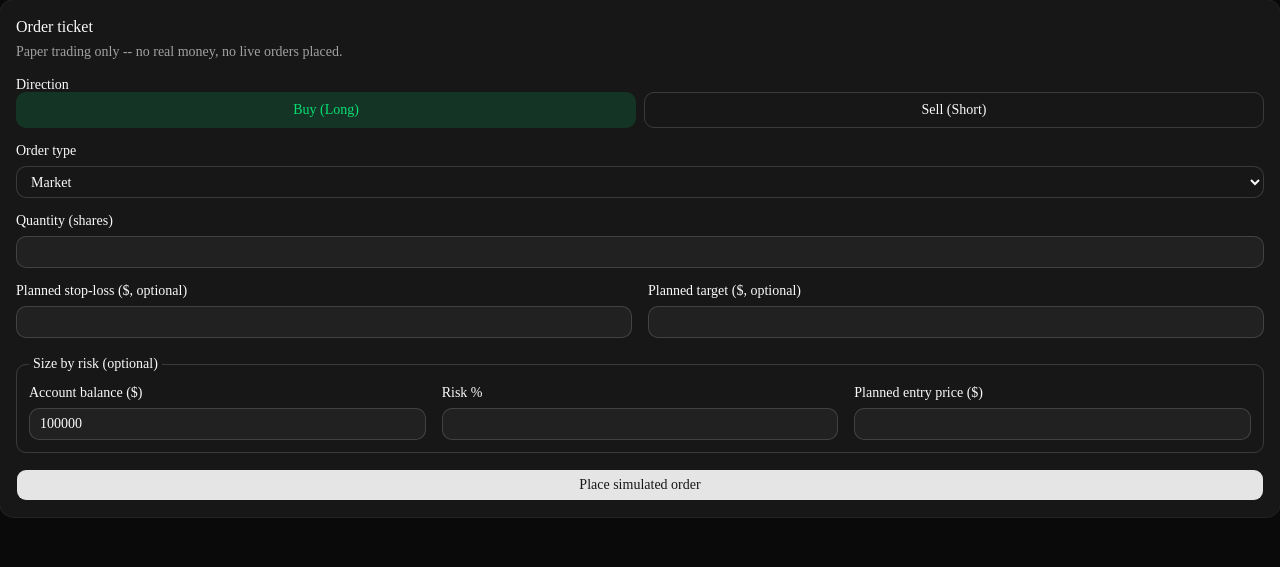
Test: OrderTicket -- size by risk › fills quantity from account balance, risk %, entry, and stop
This screenshot has width=1280, height=567.
Type "49" into the field labelled "Planned stop-loss ($, optional)" at (324, 322), box [16, 306, 632, 338]
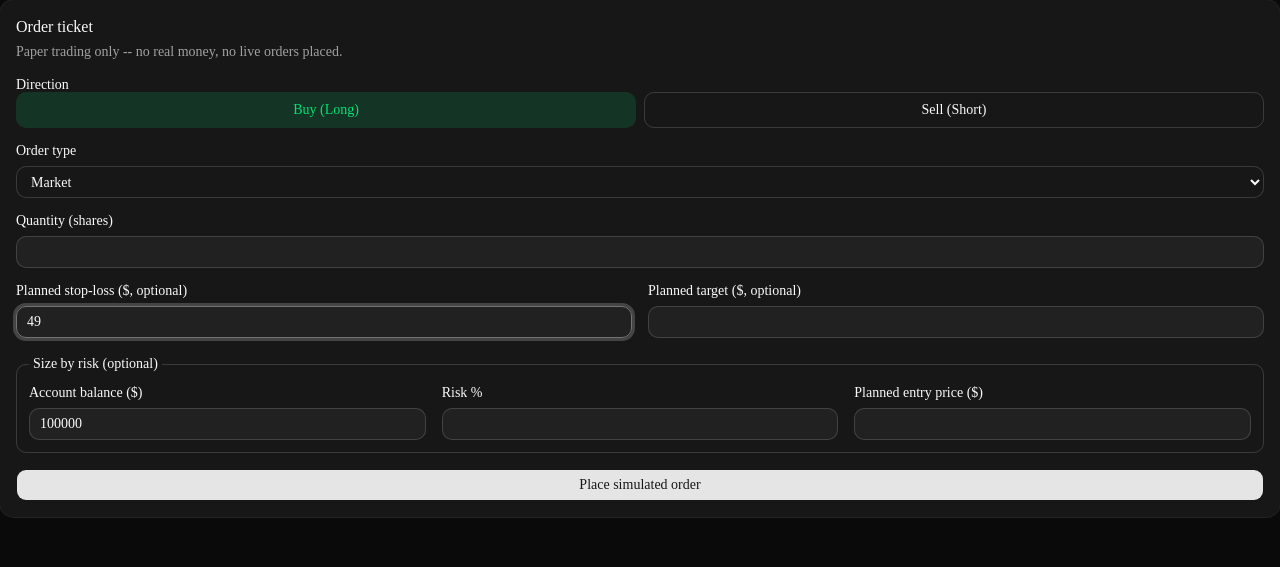
Type "1" into the field labelled "Risk %" at (640, 424), box [442, 408, 838, 440]
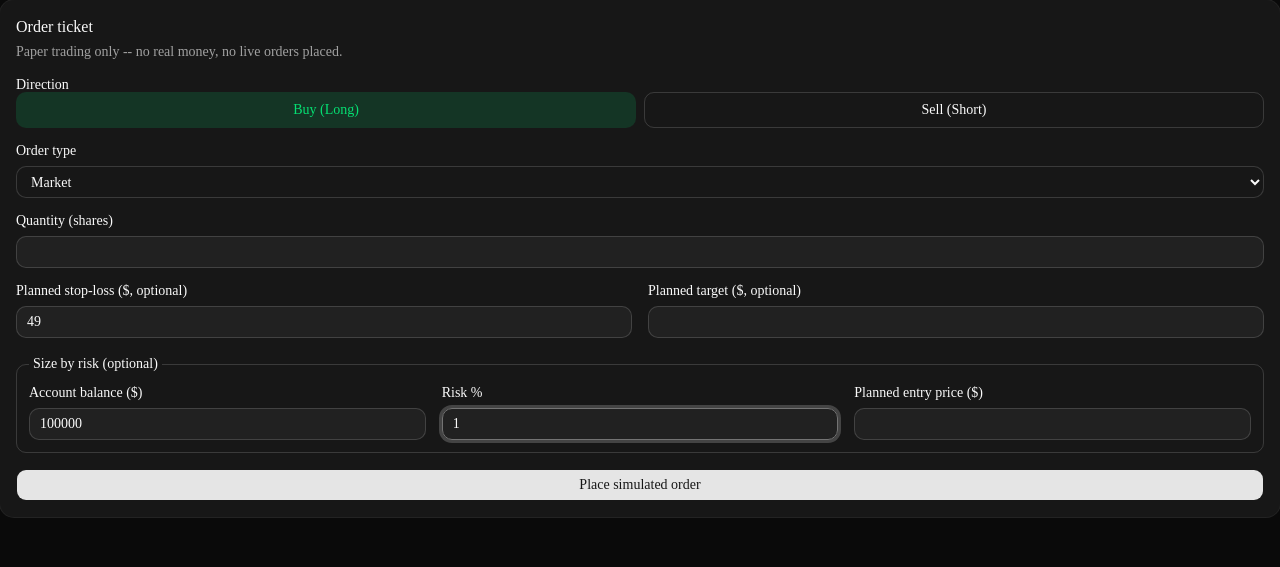
Type "50" into the field labelled "Planned entry price ($)" at (1053, 424), box [854, 408, 1251, 440]
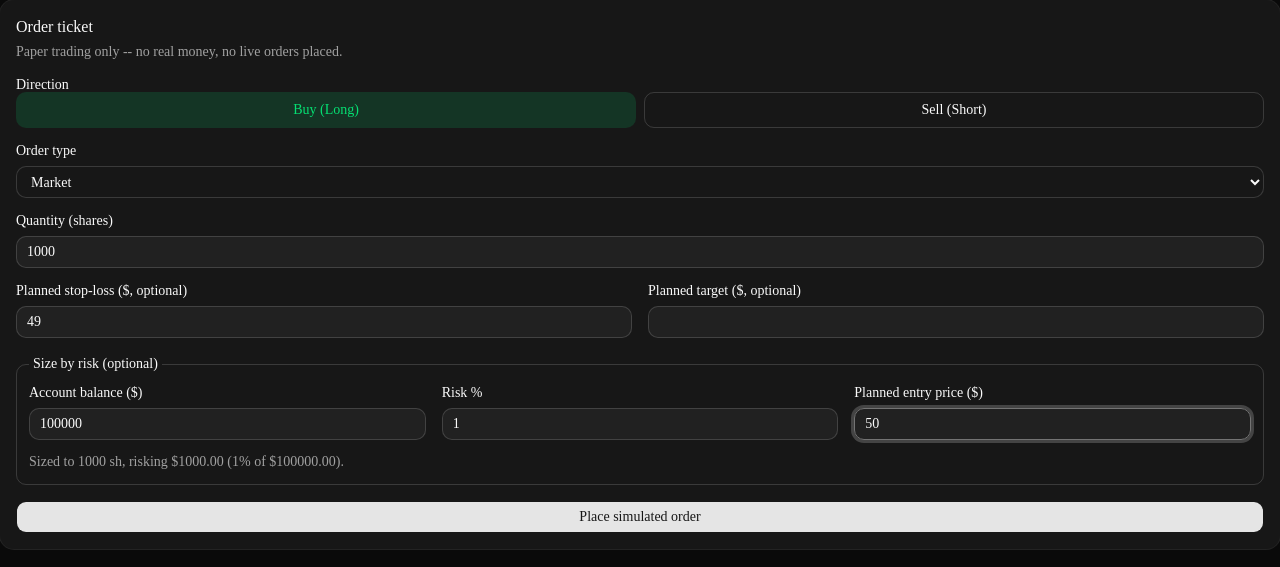
expect the field labelled "Quantity (shares)" holds "1000": met, box [16, 236, 1264, 268]
expect the message reads "Sized to 1000 sh, risking $1000.00 (1% of $100000.00).": met, box [29, 454, 344, 469]
